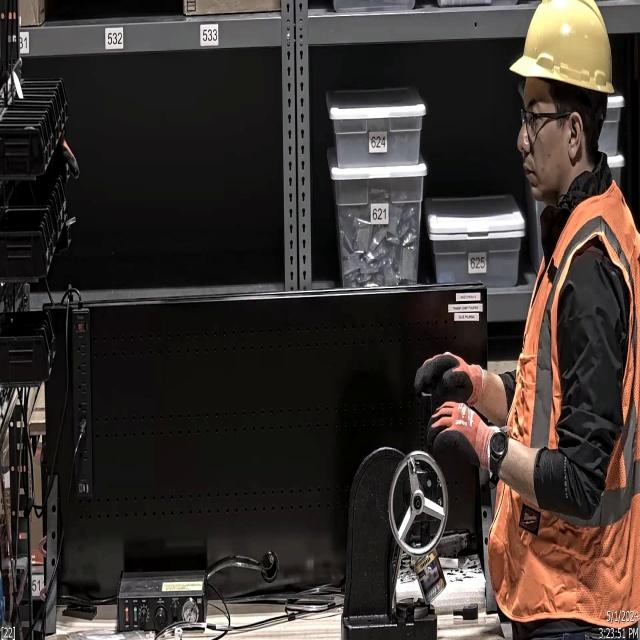construction-gloves: (425, 402, 503, 480), (412, 348, 488, 408)
